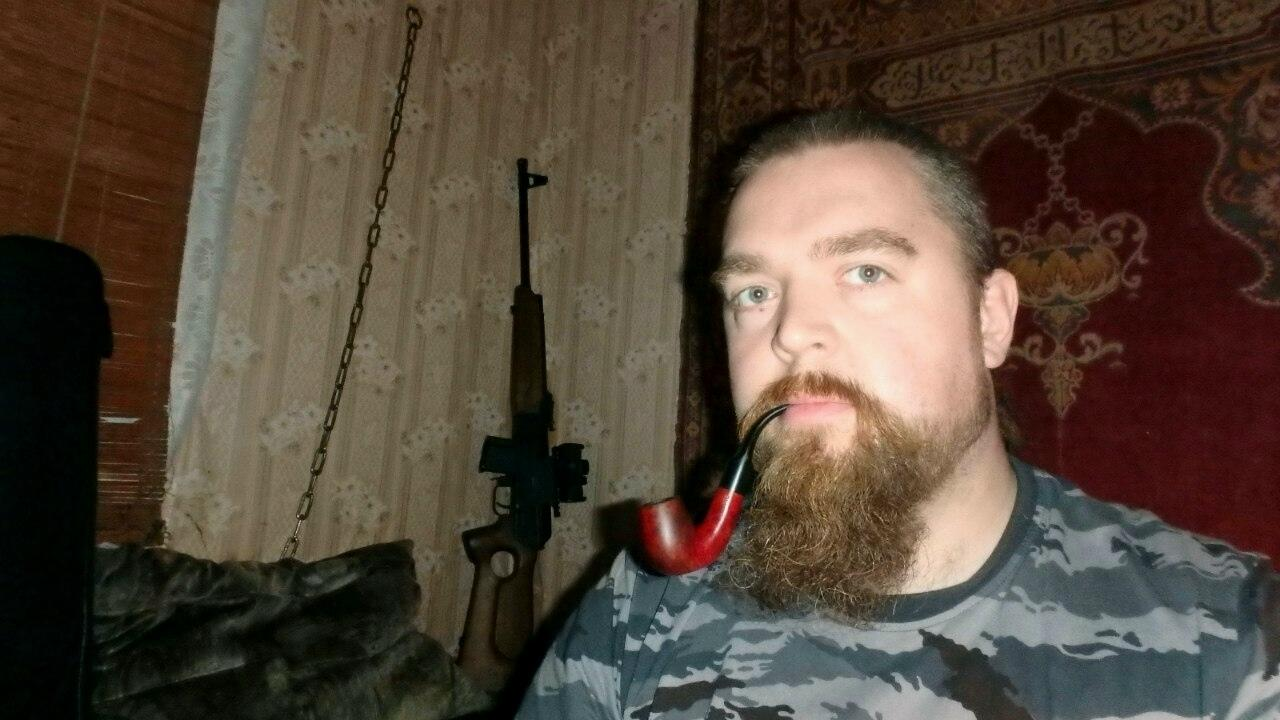trubka: (640, 405, 791, 576)
